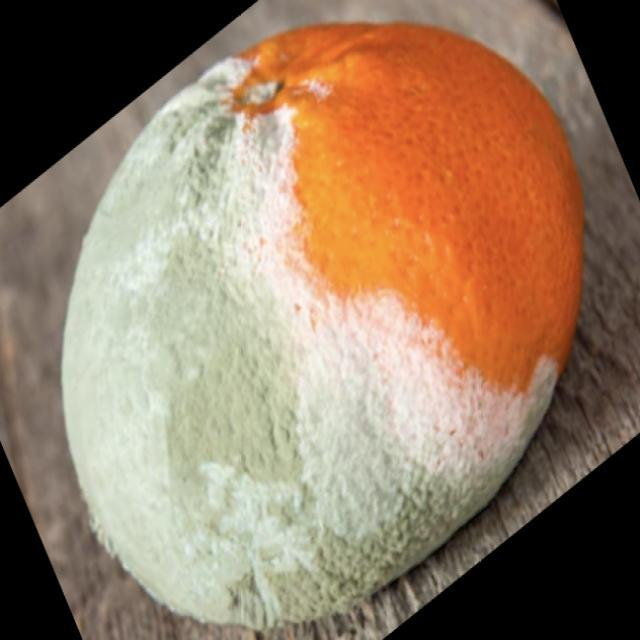sangat-busuk: (64, 25, 581, 628), (62, 58, 555, 629)
